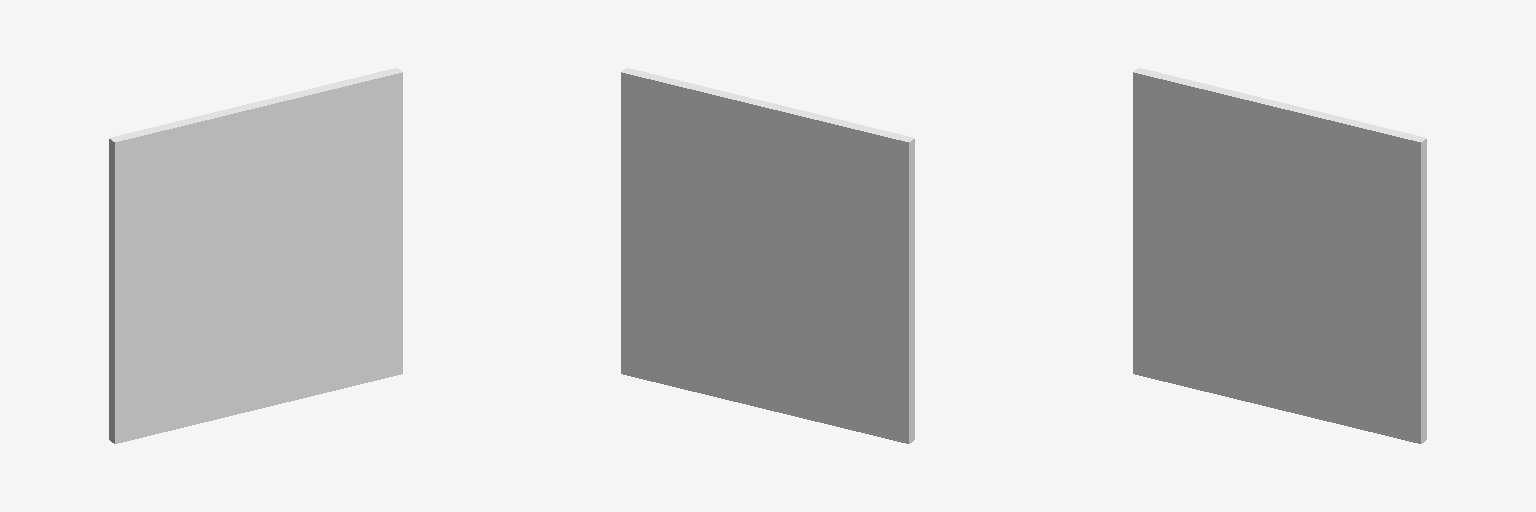
Rendered from wallWithWindow2-0-lod3.obj.
The picture shows the model from 3 angles: view 1: azimuth 30°, elevation 25°; view 2: azimuth 150°, elevation 25°; view 3: azimuth 330°, elevation 25°; orthographic projection.
Parts seen in each view (by area): view 1: lod3; view 2: lod3; view 3: lod3.
Part boxes in pixels (x1,y1,x2,y2): lod3: (109,68,402,443); lod3: (621,68,914,443); lod3: (1133,68,1426,443).
Size of the model in its own units: 16 by 16 by 0.6.